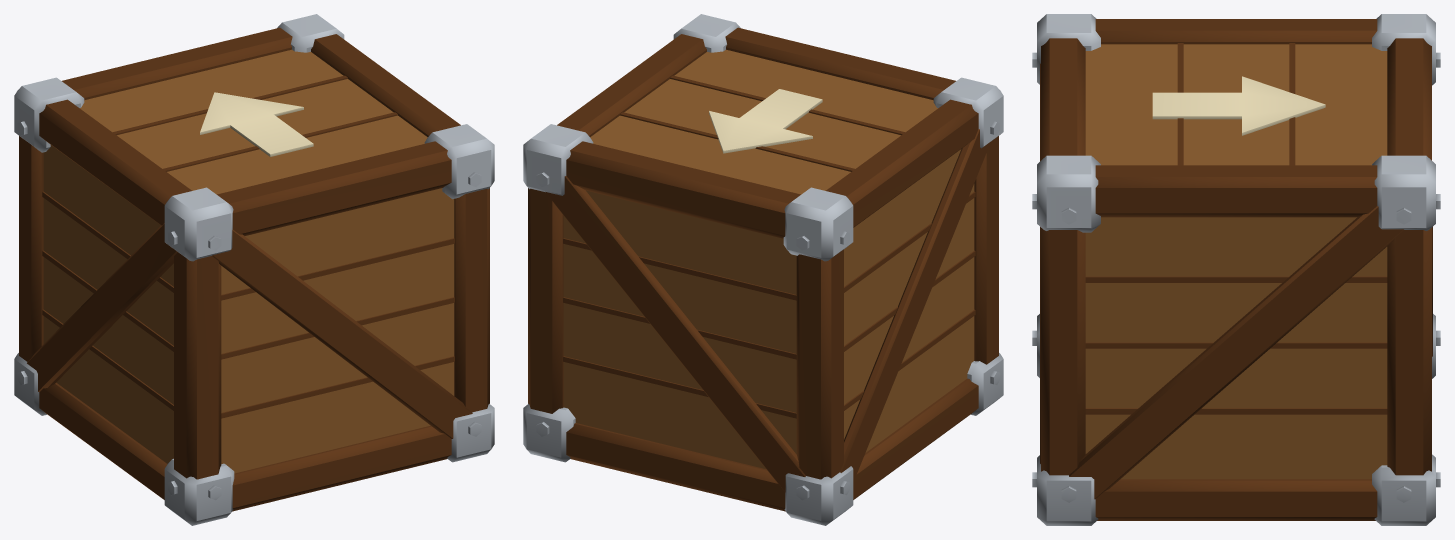
Rendered from crate.glb.
3 views of the same model, side by side, from view 1: azimuth 30°, elevation 25°; view 2: azimuth 150°, elevation 25°; view 3: azimuth 270°, elevation 25° (orthographic). The views are drawn at different scales.
Parts seen in each view (by area): view 1: Crate Crate frame, Crate Crate planks, Crate Crate brackets, Crate Crate stencil; view 2: Crate Crate frame, Crate Crate planks, Crate Crate brackets, Crate Crate stencil; view 3: Crate Crate planks, Crate Crate frame, Crate Crate brackets, Crate Crate stencil.
Boxes of the visible parts, <box> form: Crate Crate frame: <box>19,27,489,511</box>; Crate Crate planks: <box>43,49,454,473</box>; Crate Crate brackets: <box>14,14,494,525</box>; Crate Crate stencil: <box>200,92,313,156</box>; Crate Crate frame: <box>528,27,998,511</box>; Crate Crate planks: <box>563,49,974,468</box>; Crate Crate brackets: <box>523,14,1003,525</box>; Crate Crate stencil: <box>709,89,822,153</box>; Crate Crate planks: <box>1085,44,1387,479</box>; Crate Crate frame: <box>1040,19,1432,520</box>; Crate Crate brackets: <box>1032,14,1440,525</box>; Crate Crate stencil: <box>1152,76,1325,135</box>.
Size of the model in its own units: 1.46 by 1.39 by 1.46.
